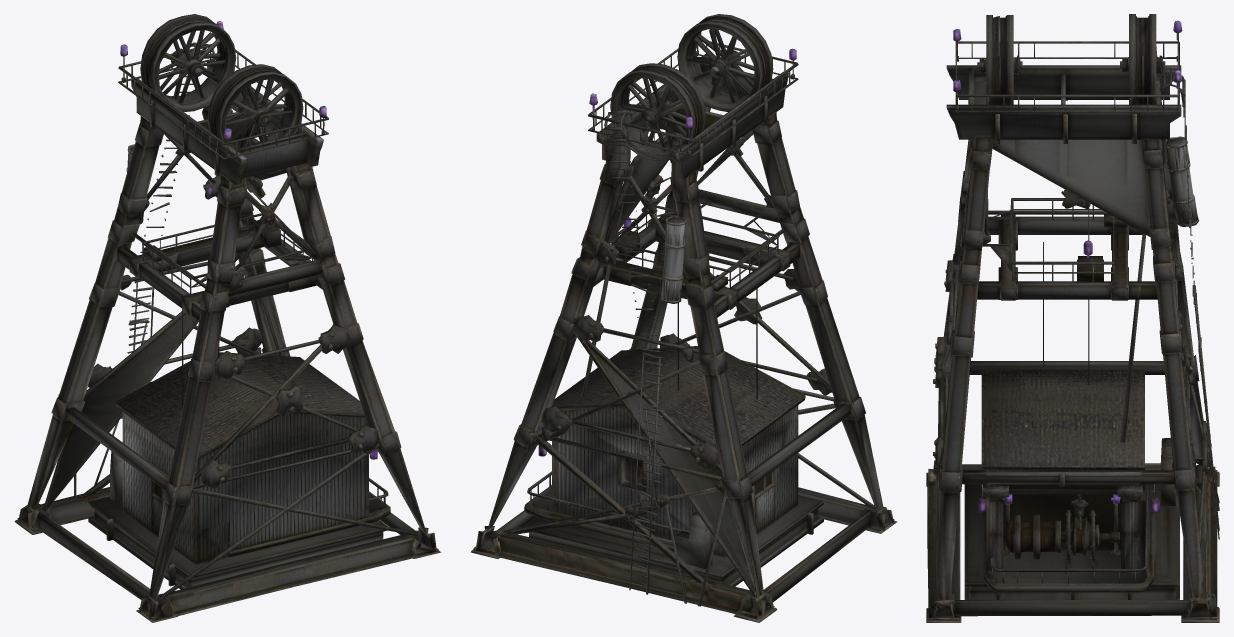
File: headframe.glb
3 renders of one model, left to right at view 1: azimuth 30°, elevation 25°; view 2: azimuth 150°, elevation 25°; view 3: azimuth 270°, elevation 25°, orthographic. The views are drawn at different scales.
Parts seen in each view (by area): view 1: tripo_node_4ec3e4e9-c773-41ab-a00f-2c647d84fe53; view 2: tripo_node_4ec3e4e9-c773-41ab-a00f-2c647d84fe53; view 3: tripo_node_4ec3e4e9-c773-41ab-a00f-2c647d84fe53.
Boxes of the visible parts, x1,y1,x2,y2 form: tripo_node_4ec3e4e9-c773-41ab-a00f-2c647d84fe53: (14,14,441,622); tripo_node_4ec3e4e9-c773-41ab-a00f-2c647d84fe53: (470,14,896,622); tripo_node_4ec3e4e9-c773-41ab-a00f-2c647d84fe53: (926,14,1219,622).
Size of the model in its own units: 0.6113 by 0.998 by 0.5059.
1 material, 1 textured.
